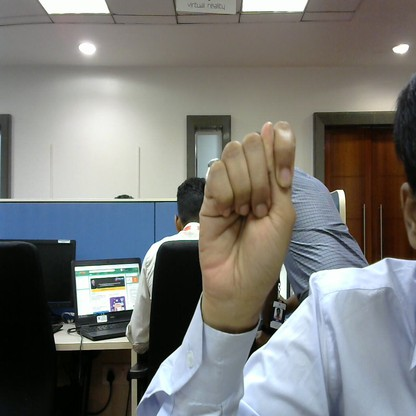t: (202, 117, 301, 323)
